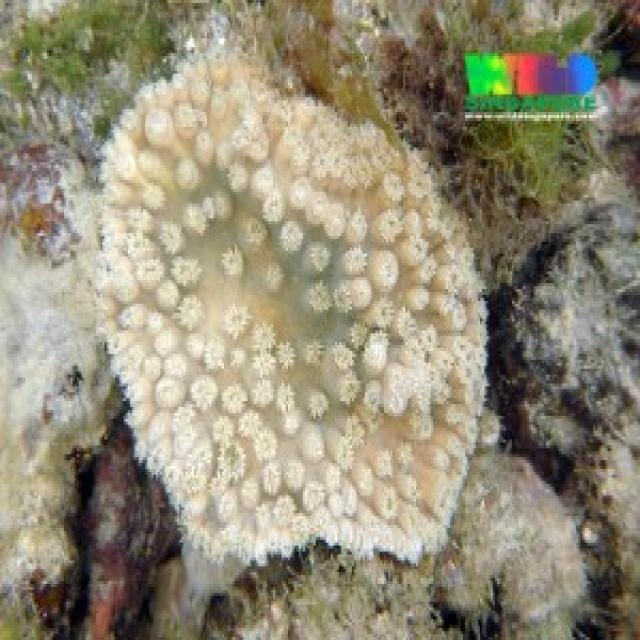Bleached: (103, 45, 494, 565), (1, 150, 99, 597), (441, 454, 593, 637), (232, 563, 451, 640), (534, 239, 640, 397), (586, 83, 640, 286), (338, 1, 471, 69), (596, 419, 640, 540), (522, 1, 606, 50)
